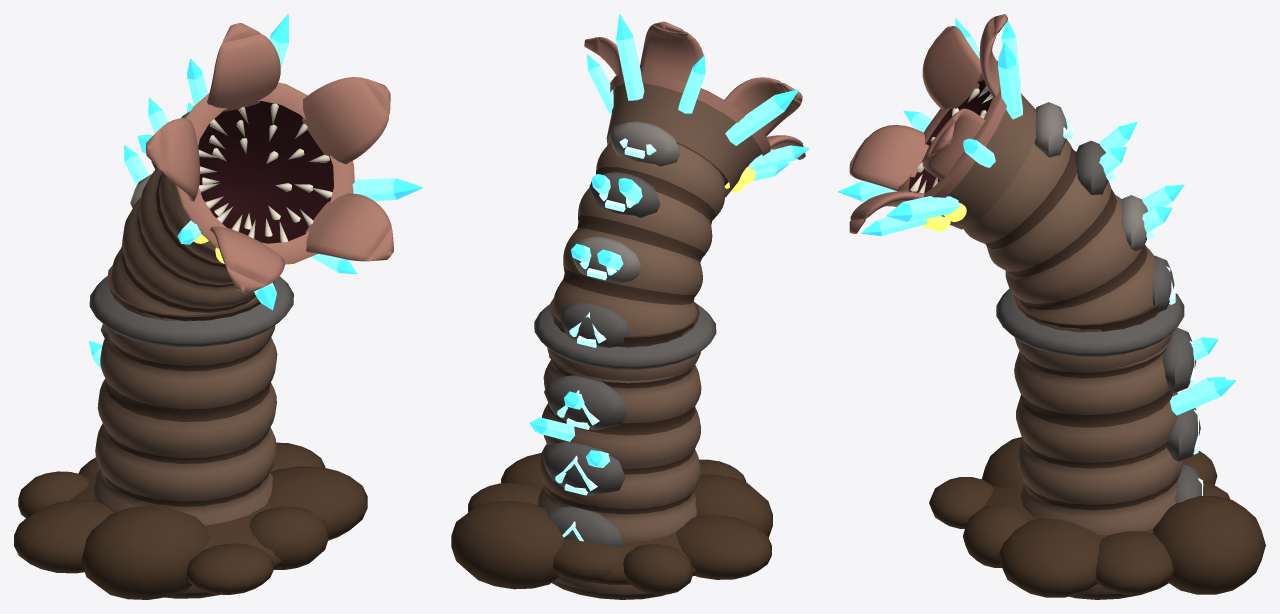
Rendered from worm.glb.
The picture shows the model from 3 angles, left to right: view 1: azimuth 30°, elevation 25°; view 2: azimuth 150°, elevation 25°; view 3: azimuth 270°, elevation 25°; orthographic projection. The views are drawn at different scales.
Visible parts, largest first — view 1: BodyLow, Throat, BodyUp, Heap5, Collar, Petal4, Heap4, Petal3, Petal0, Heap8, Lip, Heap7 (+10 smaller); view 2: BodyLow, BodyUp, Heap1, HeadFlare, Heap4, Collar, Heap5, Heap3, PlateLow2, Petal0, PlateLow1, Heap2 (+18 smaller); view 3: BodyLow, BodyUp, Heap1, Heap8, Collar, HeadFlare, Heap0, Petal2, Petal1, Heap7, Heap6, Petal4 (+22 smaller).
Part boxes in pixels (bbox=[...]): BodyLow: bbox=[93, 265, 277, 598]; Throat: bbox=[198, 101, 333, 243]; BodyUp: bbox=[105, 168, 261, 332]; Heap5: bbox=[81, 505, 209, 599]; Collar: bbox=[89, 276, 293, 347]; Petal4: bbox=[302, 77, 390, 164]; Heap4: bbox=[14, 500, 113, 573]; Petal3: bbox=[305, 193, 393, 261]; Petal0: bbox=[207, 23, 280, 111]; Heap8: bbox=[267, 466, 367, 540]; Lip: bbox=[175, 82, 354, 264]; Heap7: bbox=[249, 506, 328, 569]; BodyLow: bbox=[537, 298, 701, 599]; BodyUp: bbox=[549, 142, 728, 383]; Heap1: bbox=[451, 501, 564, 589]; HeadFlare: bbox=[606, 83, 762, 197]; Heap4: bbox=[676, 515, 771, 579]; Collar: bbox=[534, 302, 716, 369]; Heap5: bbox=[694, 474, 772, 537]; Heap3: bbox=[623, 544, 692, 594]; PlateLow2: bbox=[544, 375, 627, 429]; Petal0: bbox=[640, 21, 703, 82]; PlateLow1: bbox=[542, 441, 625, 495]; Heap2: bbox=[553, 539, 621, 582]; BodyLow: bbox=[1013, 294, 1184, 599]; BodyUp: bbox=[963, 139, 1172, 369]; Heap1: bbox=[1153, 496, 1265, 594]; Heap8: bbox=[998, 518, 1101, 597]; Collar: bbox=[996, 288, 1184, 356]; HeadFlare: bbox=[941, 93, 1036, 229]; Heap0: bbox=[1096, 531, 1173, 594]; Petal2: bbox=[849, 125, 929, 191]; Petal1: bbox=[922, 26, 981, 109]; Heap7: bbox=[963, 504, 1028, 567]; Heap6: bbox=[929, 477, 993, 528]; Petal4: bbox=[922, 108, 984, 180].
Size of what is drawn, in the model's own units: 3.16 by 5.55 by 3.89.
